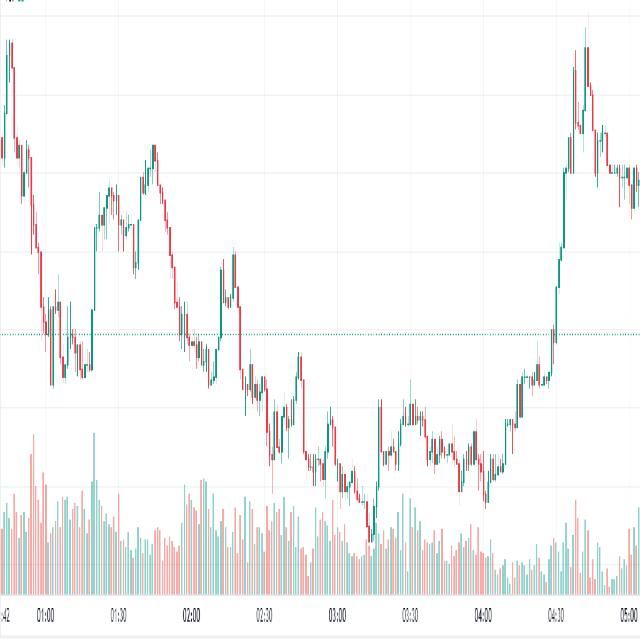Descending-Triangle: (31, 211, 112, 392)
Double-Top: (83, 135, 181, 324), (214, 237, 244, 353)
Rounding-Bottom: (162, 192, 578, 546)
